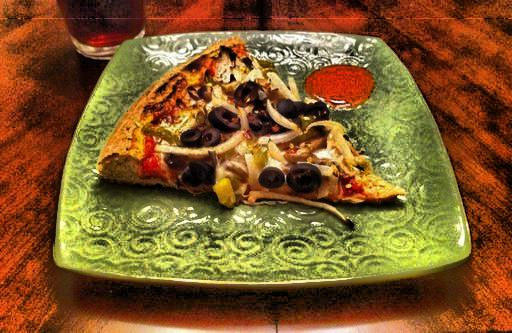pizza: (82, 42, 426, 200)
